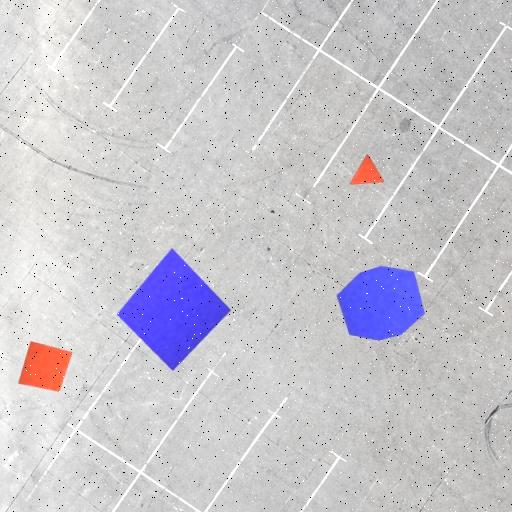BLUE_SQUARE: (117, 247, 232, 371)
RED_SQUARE: (18, 340, 72, 392)
